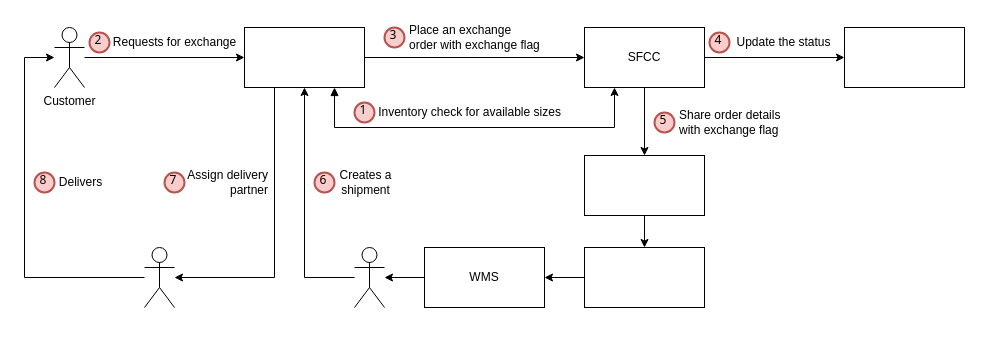
Image size: 982x345. Some labels were removed from this diagram. The shapes that lost their labels are listed below. From the top down, each one's centre as x and y in pixels, then its label:
At (304,57): "Clickpost".
At (904,57): "Web/App Interface".
At (644,185): "Increff".
At (159,277): "Delivery Partner".
At (369,277): "Warehouse".
At (644,277): "OMS".
